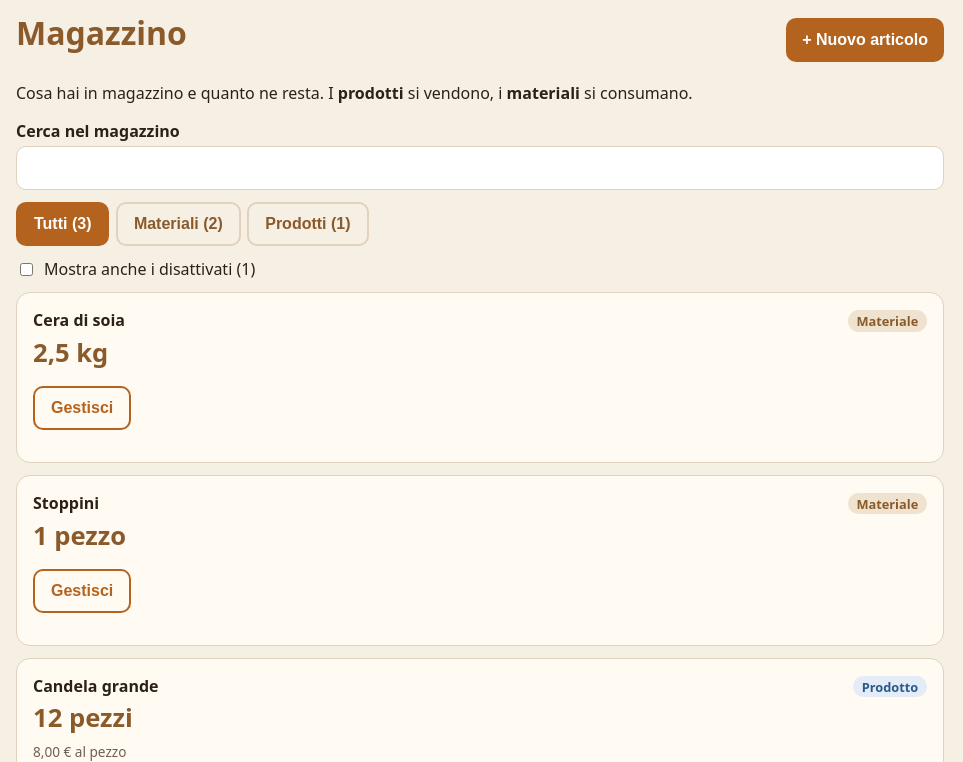
Test: nuovo articolo › senza nome non salva
This screenshot has width=963, height=762.
Click the button "+ Nuovo articolo" at (865, 40), box [786,18,944,62]
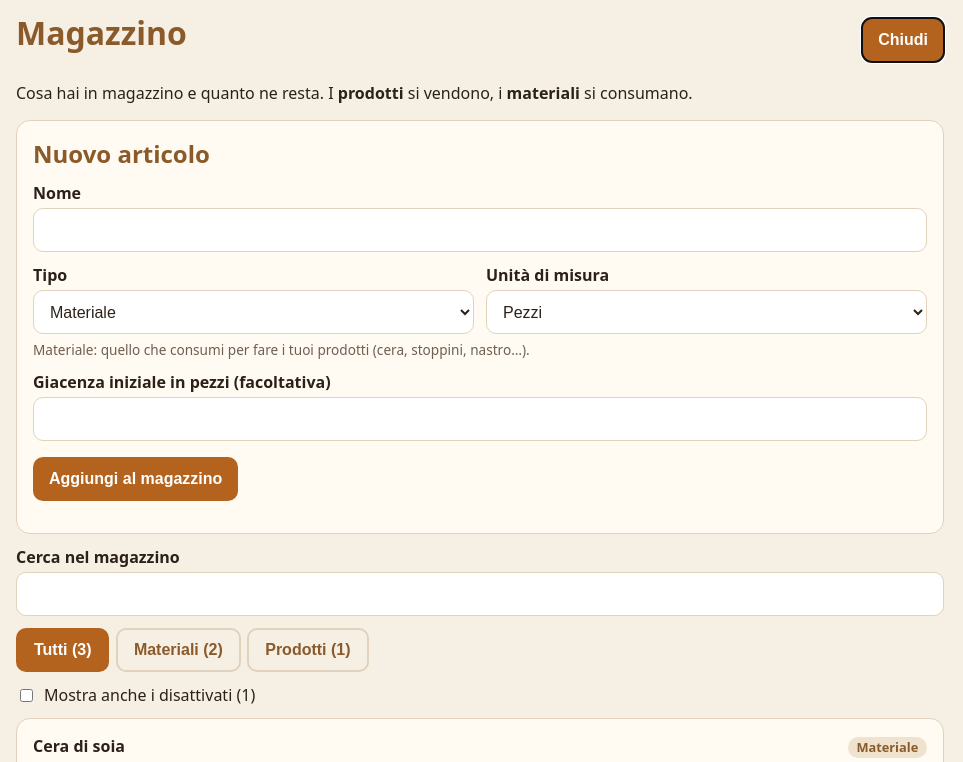
Click the button "Aggiungi al magazzino" at (136, 479), box [33,457,238,501]
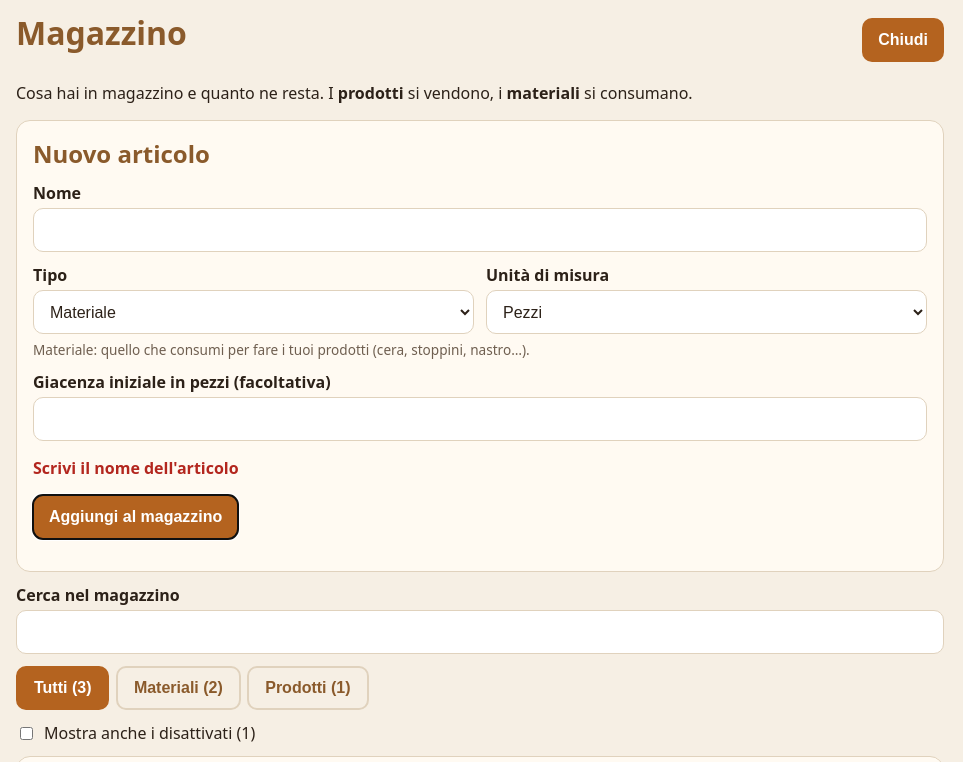
Now the text "Scrivi il nome dell'articolo" is shown, box [33,457,239,479]
